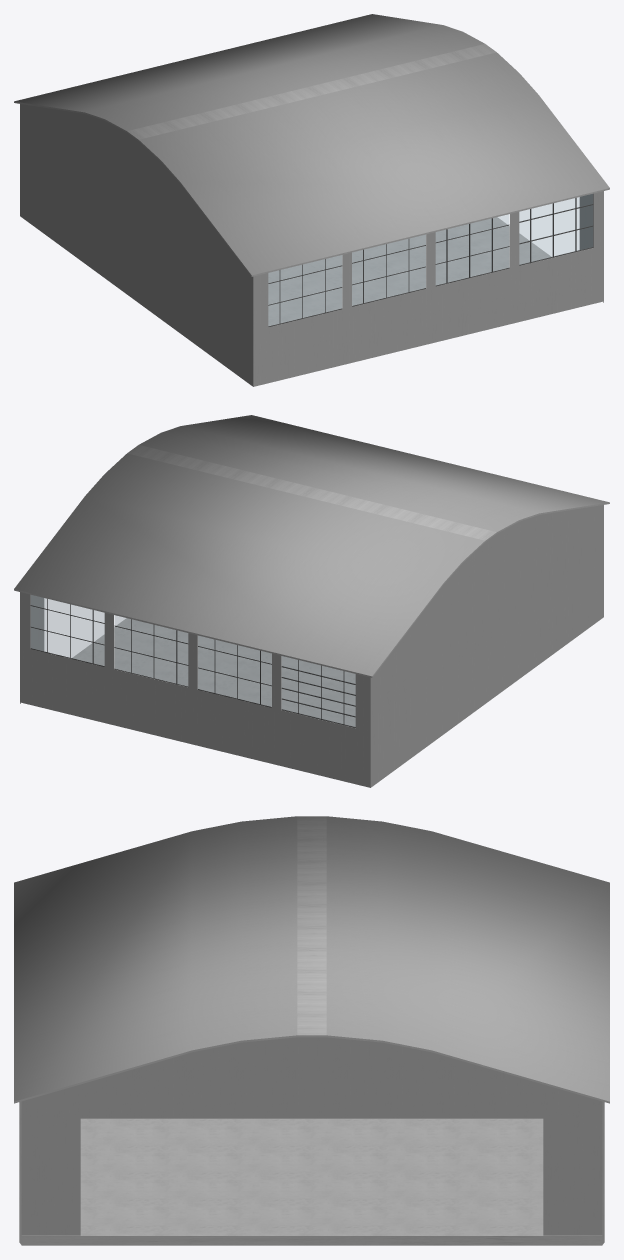
The model's file is gen_open_hangar09-27x23x8-cbj_LOD05.gltf.
The picture shows the model from 3 angles, top to bottom: view 1: azimuth 30°, elevation 25°; view 2: azimuth 150°, elevation 25°; view 3: azimuth 270°, elevation 25°; orthographic projection. The views are drawn at different scales.
Visible parts, largest first — view 1: Cube.006; view 2: Cube.006; view 3: Cube.006.
Part boxes in pixels (x1,y1,x2,y2): Cube.006: (14,14,609,386); Cube.006: (14,415,609,787); Cube.006: (14,816,609,1245).
Size of the model in its own units: 24.1 by 10.88 by 27.7.
